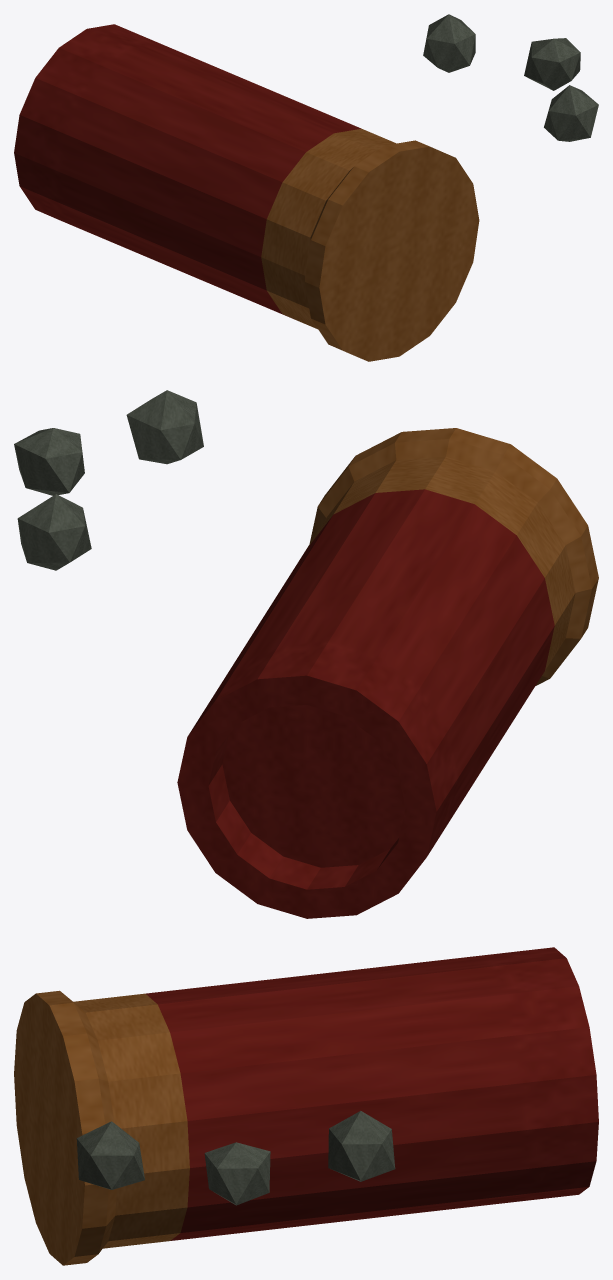
Rendered from AuxAmmoShotgunBody.fbx.
3 views of the same model, one above another, from view 1: azimuth 30°, elevation 25°; view 2: azimuth 150°, elevation 25°; view 3: azimuth 270°, elevation 25° (orthographic). The views are drawn at different scales.
Visible parts, largest first — view 1: AuxAmmoShotgunBody_export; view 2: AuxAmmoShotgunBody_export; view 3: AuxAmmoShotgunBody_export.
Boxes of the visible parts, box(x1,y1,x2,y2) form: AuxAmmoShotgunBody_export: box(14, 14, 598, 361); AuxAmmoShotgunBody_export: box(14, 390, 598, 918); AuxAmmoShotgunBody_export: box(14, 947, 598, 1265).
Size of the model in its own units: 4.97 by 4.7 by 2.2.
